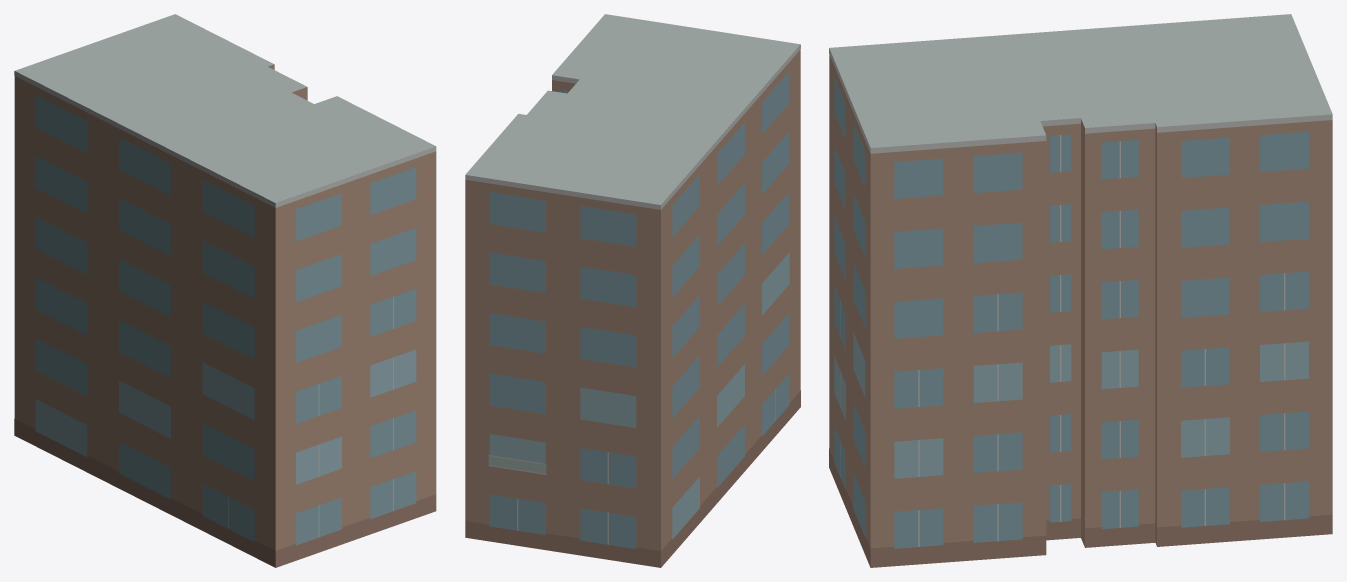
Rendered from survey-upis-33032122.glb.
3 views of the same model, side by side, from view 1: azimuth 30°, elevation 25°; view 2: azimuth 150°, elevation 25°; view 3: azimuth 270°, elevation 25° (orthographic). The views are drawn at different scales.
Visible parts, largest first — view 1: survey-upis-33032122.tmp; view 2: survey-upis-33032122.tmp; view 3: survey-upis-33032122.tmp.
Boxes of the visible parts, x1,y1,x2,y2 form: survey-upis-33032122.tmp: (14, 14, 436, 567); survey-upis-33032122.tmp: (465, 14, 800, 567); survey-upis-33032122.tmp: (829, 14, 1332, 567).
Size of the model in its own units: 12.56 by 18.3 by 19.91.
